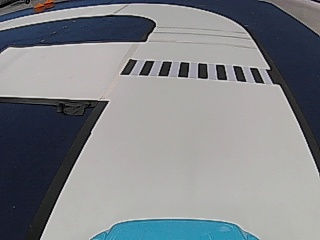CrossWalk: (116, 59, 274, 82)
